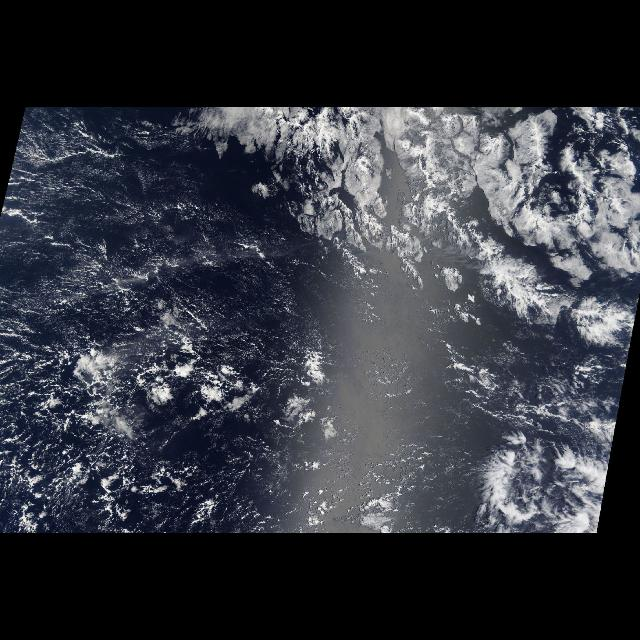Fish: (390, 186, 634, 350)
Flower: (173, 108, 639, 354)
Gravel: (2, 317, 348, 533)
Sugar: (2, 110, 358, 346)
